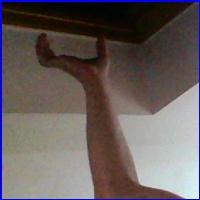space: (34, 28, 117, 81)
